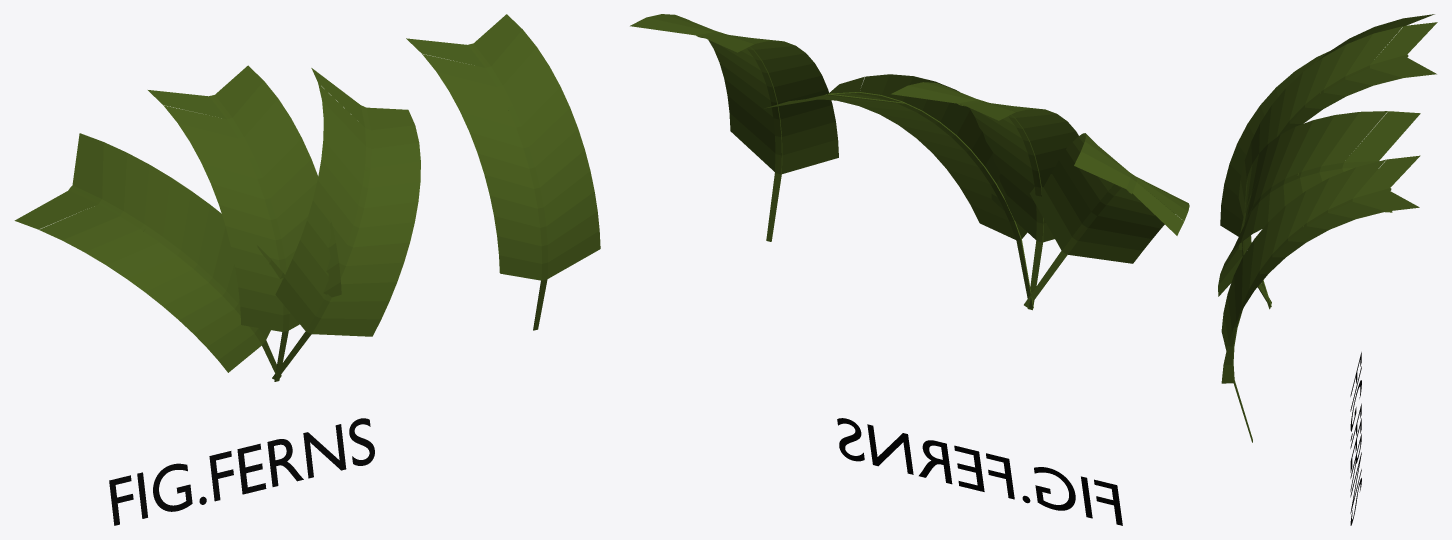
File: Pteridophyta_RushalNandeshwar.gltf
The picture shows the model from 3 angles, left to right: view 1: azimuth 30°, elevation 25°; view 2: azimuth 150°, elevation 25°; view 3: azimuth 270°, elevation 25°; orthographic projection. The views are drawn at different scales.
Parts seen in each view (by area): view 1: Plane.003, Plane.002, Plane.001, Plane, Text; view 2: Plane.003, Plane.002, Plane.001, Plane, Text; view 3: Plane.001, Plane.003, Plane, Plane.002, Text.
Part boxes in pixels (left/top/right/bottom): Plane.003: left=406, top=14, right=600, bottom=330; Plane.002: left=14, top=133, right=284, bottom=377; Plane.001: left=272, top=68, right=420, bottom=379; Plane: left=148, top=65, right=341, bottom=381; Text: left=109, top=418, right=374, bottom=525; Plane.003: left=630, top=14, right=838, bottom=241; Plane.002: left=1024, top=133, right=1189, bottom=307; Plane.001: left=764, top=74, right=1033, bottom=308; Plane: left=891, top=82, right=1078, bottom=310; Text: left=837, top=418, right=1122, bottom=525; Plane.001: left=1218, top=111, right=1420, bottom=304; Plane.003: left=1221, top=155, right=1420, bottom=442; Plane: left=1238, top=22, right=1437, bottom=309; Plane.002: left=1220, top=14, right=1434, bottom=307; Text: left=1350, top=352, right=1361, bottom=525.
Size of the model in its own units: 5.19 by 3.85 by 1.87.
